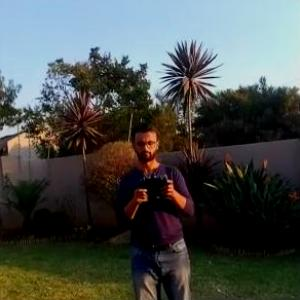follow: (108, 117, 203, 299)
